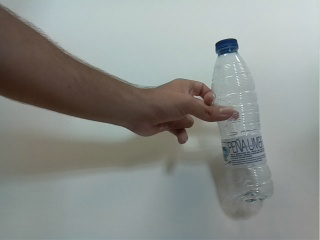botella plastico: (207, 37, 277, 205)
